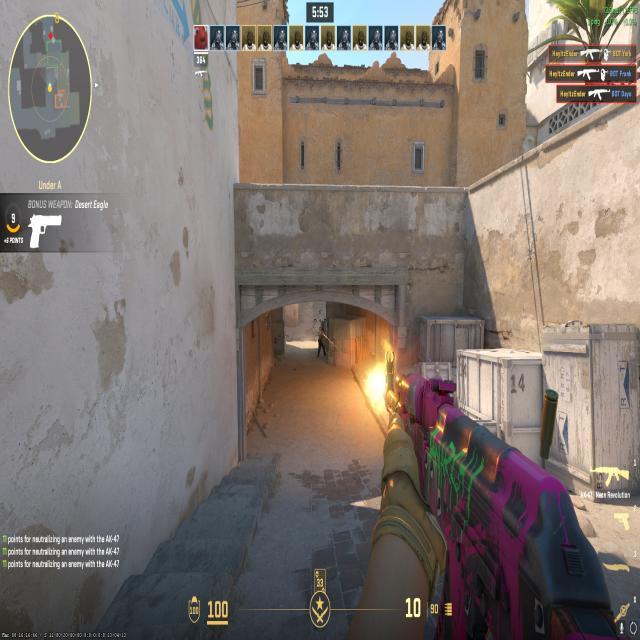t: (315, 322, 328, 366)
